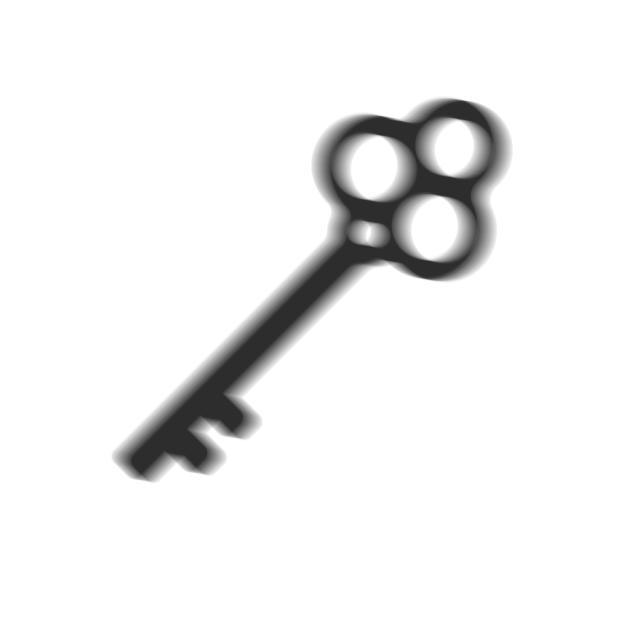key: (105, 93, 521, 494)
